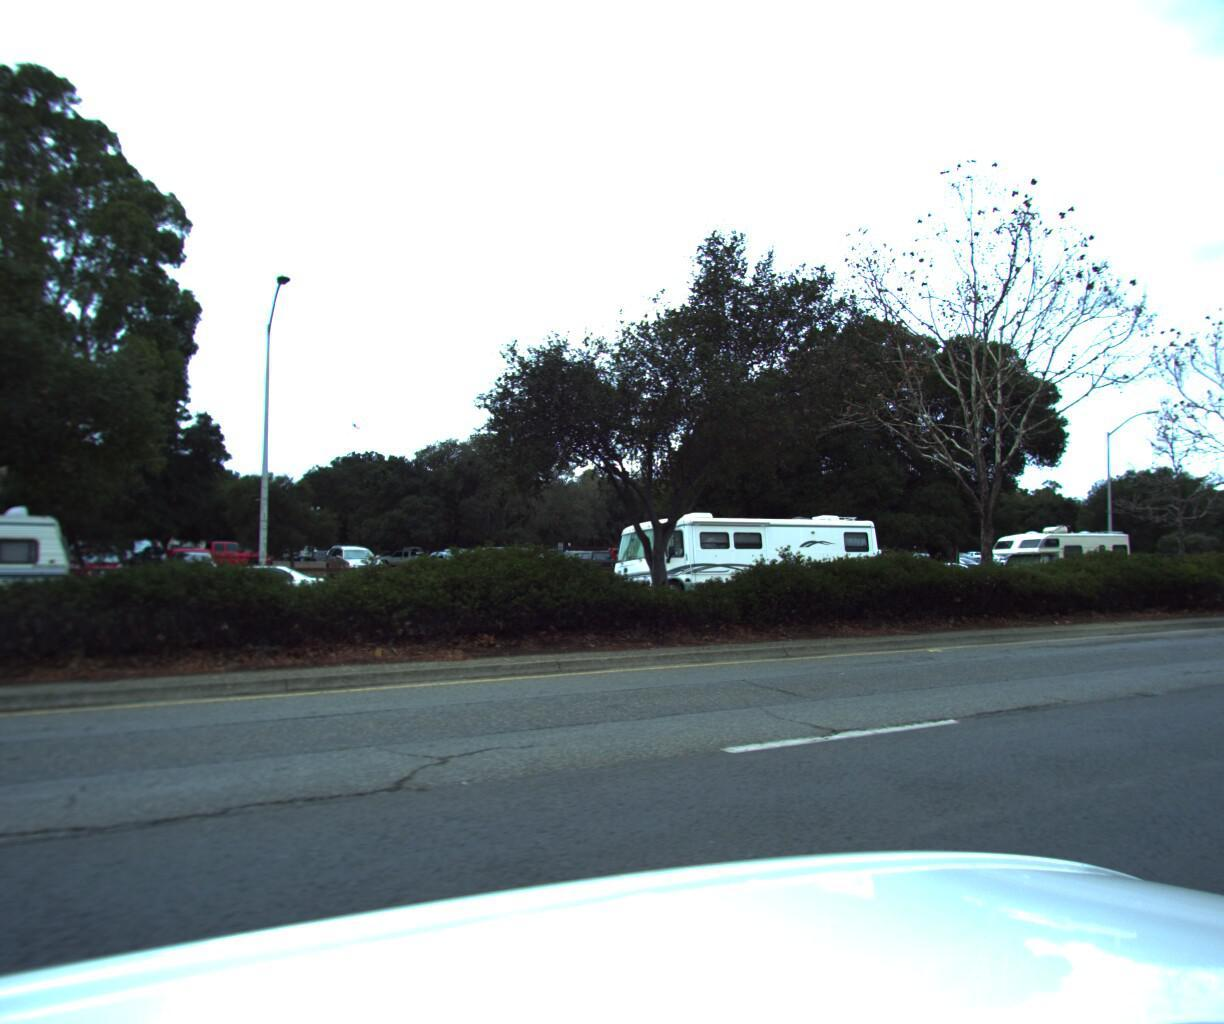car: (149, 558, 333, 619), (885, 555, 986, 595)
other_vehicle: (596, 501, 890, 610), (0, 488, 82, 637), (973, 517, 1140, 588)
